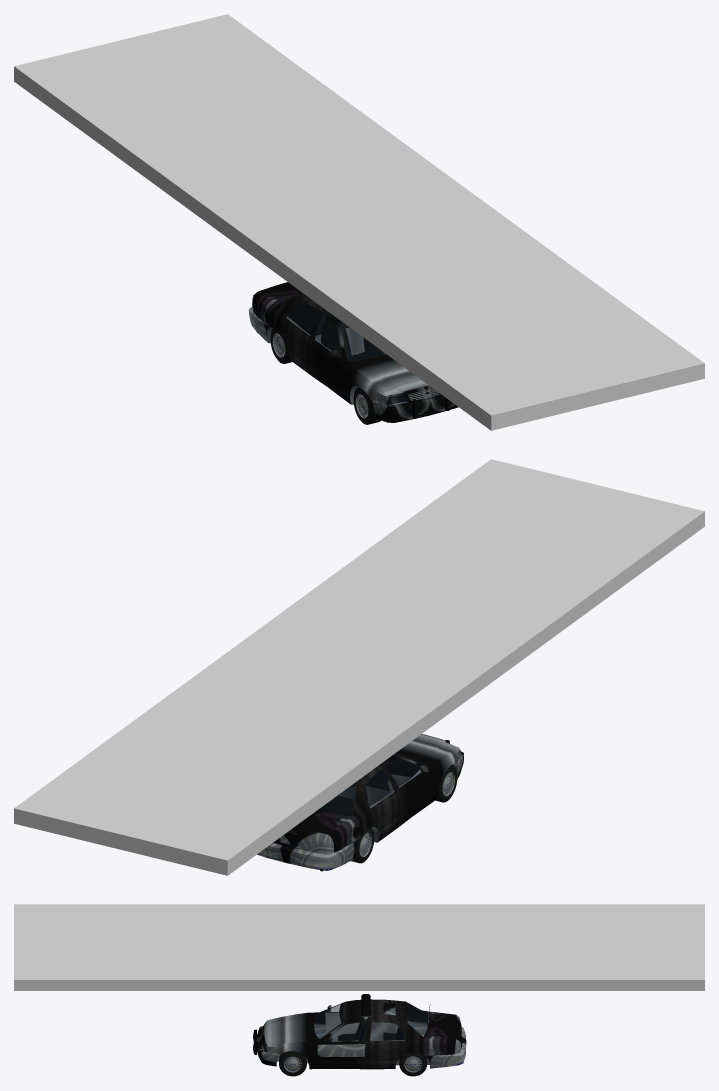
The model's file is poli.fbx.
The picture shows the model from 3 angles, top to bottom: view 1: azimuth 30°, elevation 25°; view 2: azimuth 150°, elevation 25°; view 3: azimuth 270°, elevation 25°; orthographic projection. The views are drawn at different scales.
Visible parts, largest first — view 1: reflect_box01, part 55, part 50, part 46, part 53, part 48, part 51, part 71, part 61; view 2: reflect_box01, part 40, part 55, part 45, part 51, part 50, part 48, part 46, part 71, part 63; view 3: reflect_box01, part 55, part 49, part 51, part 46, part 47, part 41, part 45, part 70, part 40, part 67, part 61 (+6 smaller).
Boxes of the visible parts, box(x1,y1,x2,y2) form: reflect_box01: box(14, 14, 704, 430); part 55: box(286, 302, 385, 359); part 50: box(310, 309, 346, 395); part 46: box(347, 355, 422, 392); part 53: box(371, 395, 458, 422); part 48: box(280, 298, 323, 372); part 51: box(253, 292, 312, 376); part 71: box(312, 361, 390, 405); part 61: box(344, 327, 384, 359); reflect_box01: box(14, 459, 704, 875); part 40: box(257, 835, 359, 870); part 55: box(320, 753, 423, 813); part 45: box(273, 809, 352, 852); part 51: box(319, 780, 399, 852); part 50: box(380, 755, 433, 822); part 48: box(363, 765, 401, 837); part 46: box(396, 735, 456, 765); part 71: box(399, 747, 462, 826); part 63: box(366, 769, 393, 807); reflect_box01: box(14, 904, 704, 990); part 55: box(314, 1010, 427, 1041); part 49: box(317, 1019, 369, 1066); part 51: box(364, 1002, 455, 1069); part 46: box(270, 1012, 318, 1044); part 47: box(364, 1019, 408, 1066); part 41: box(342, 999, 407, 1022); part 45: box(423, 1011, 462, 1047); part 70: box(263, 1040, 364, 1069); part 40: box(425, 1016, 466, 1068); part 67: box(279, 1051, 306, 1076); part 61: box(314, 1004, 341, 1038).
Size of what is drawn, in the model's own units: 4.33 by 3.19 by 16.72.
Materials: 4 (2 with a texture image).
